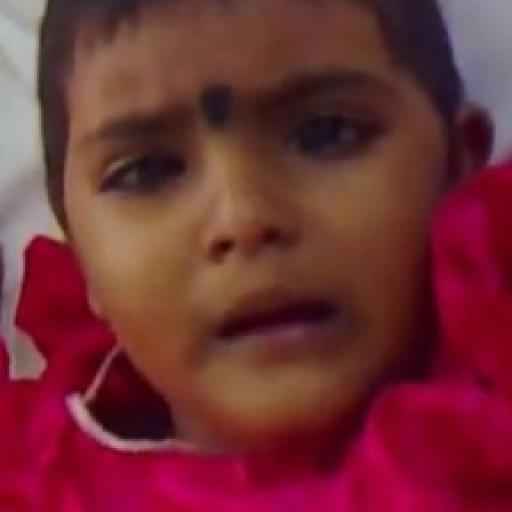Autism: (48, 28, 482, 454)
